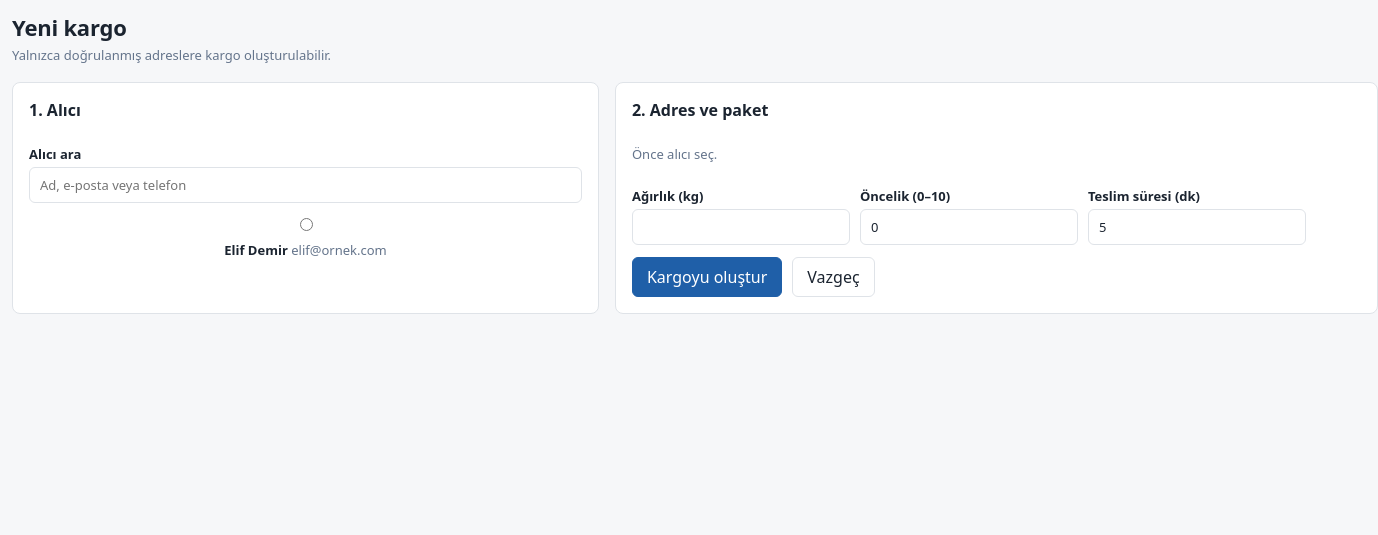
Test: NewShipmentPage › should place server field errors under their fields
Click the radio button labelled "Elif Demir elif@ornek.com" at (306, 224), box x1=300 y1=218 x2=313 y2=231
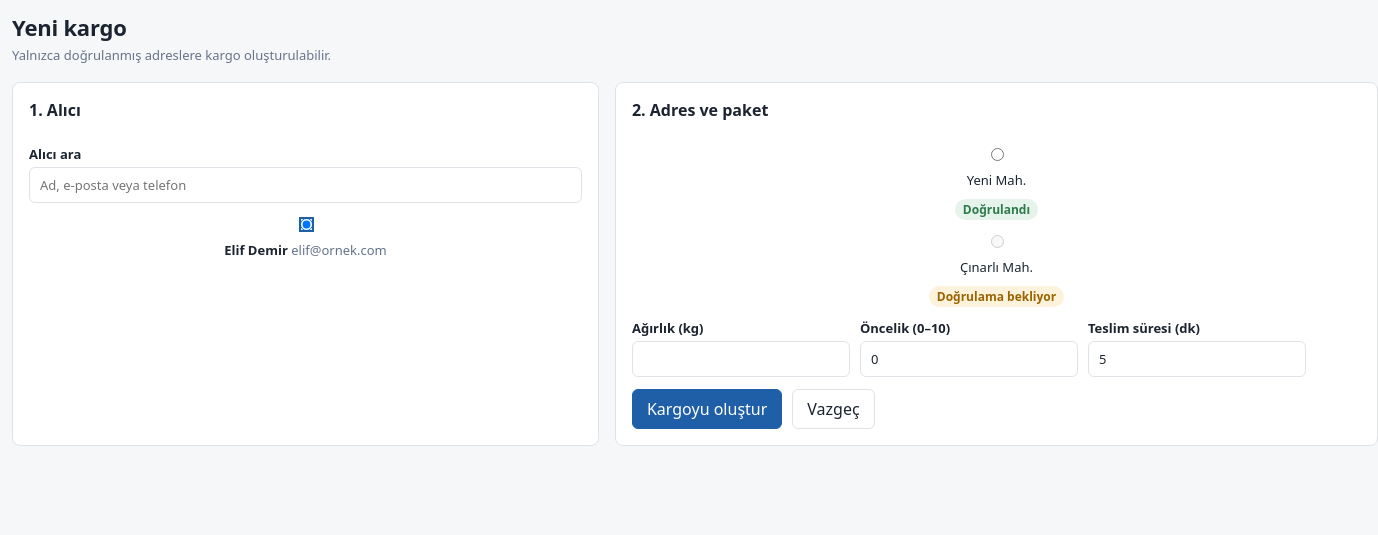
Click the radio button labelled "Yeni Mah. Doğrulandı" at (998, 154), box x1=991 y1=148 x2=1004 y2=161
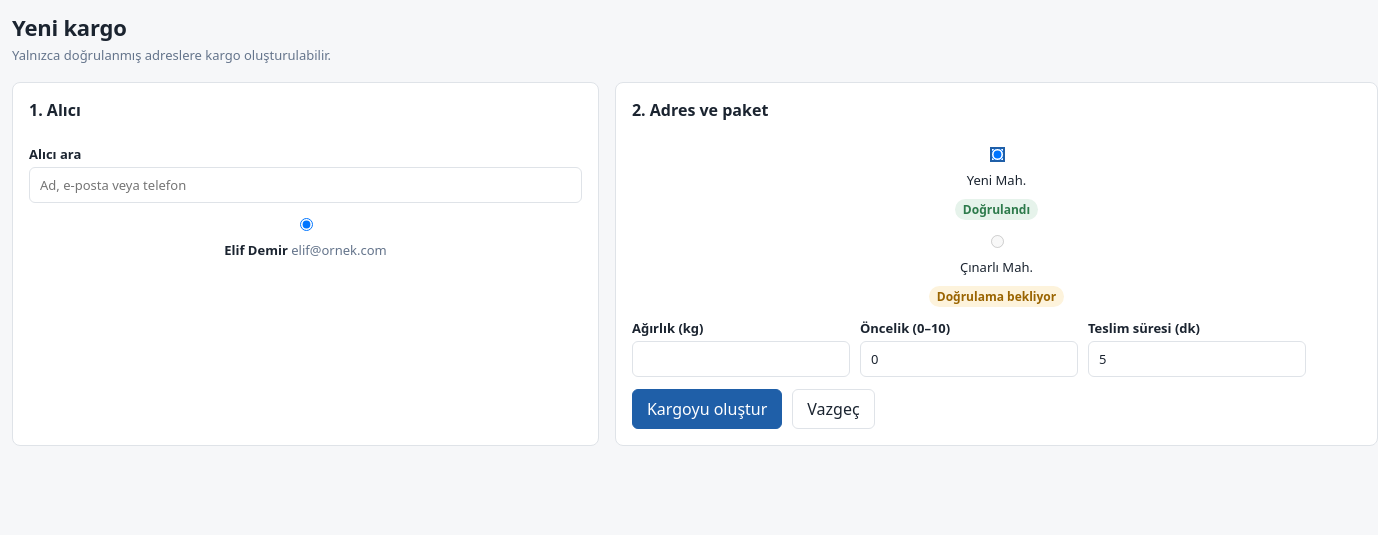
Type "3" into the number field labelled "Ağırlık (kg)" at (741, 359), box x1=632 y1=341 x2=850 y2=377
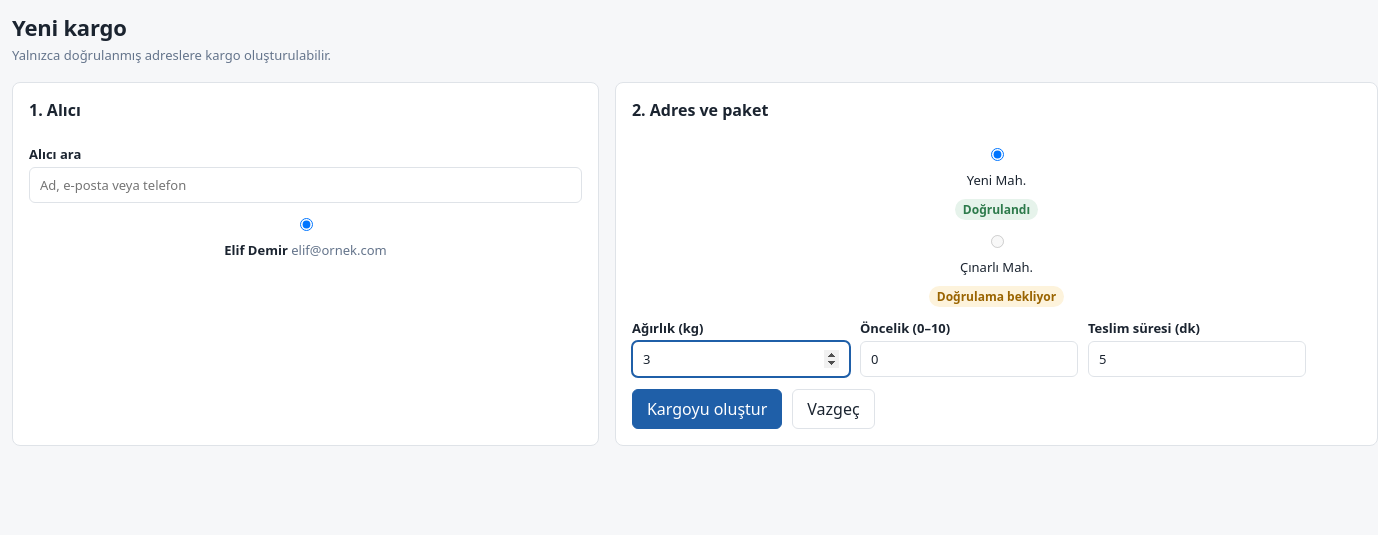
Click the button "Kargoyu oluştur" at (707, 409), box x1=632 y1=389 x2=782 y2=429
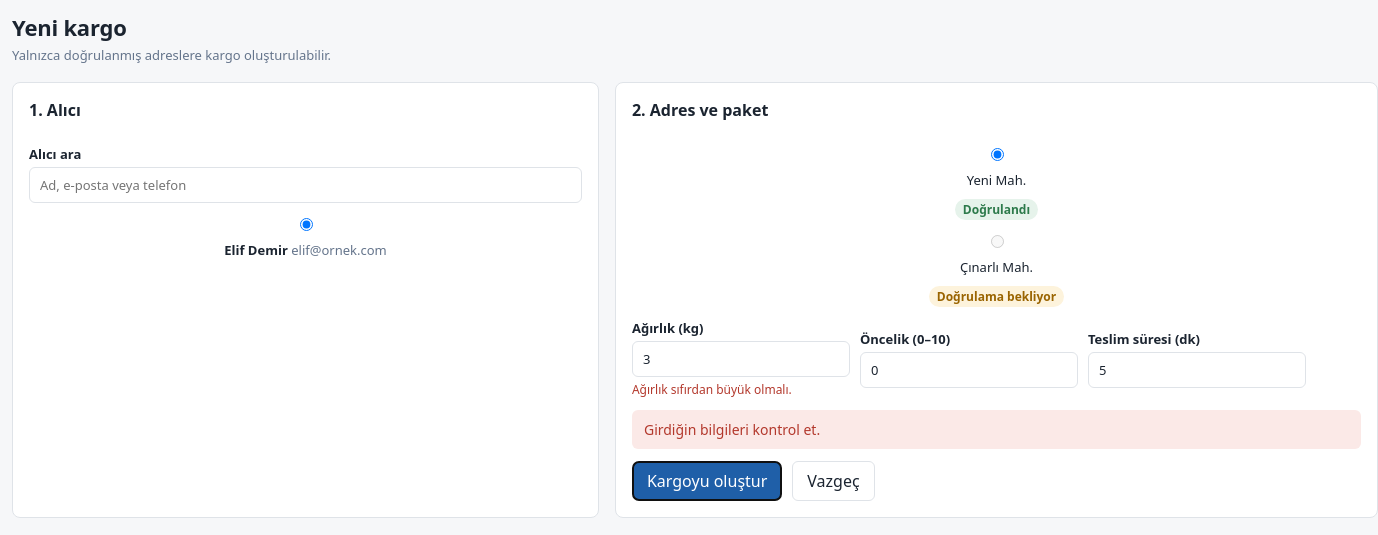
Check: the text "Ağırlık sıfırdan büyük olmalı." is shown, box x1=632 y1=381 x2=792 y2=398
